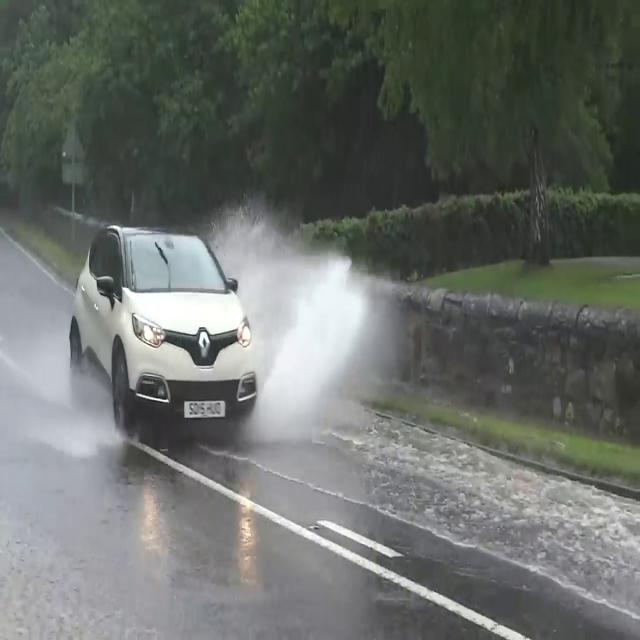license-plate-annotation: (186, 398, 225, 417)
